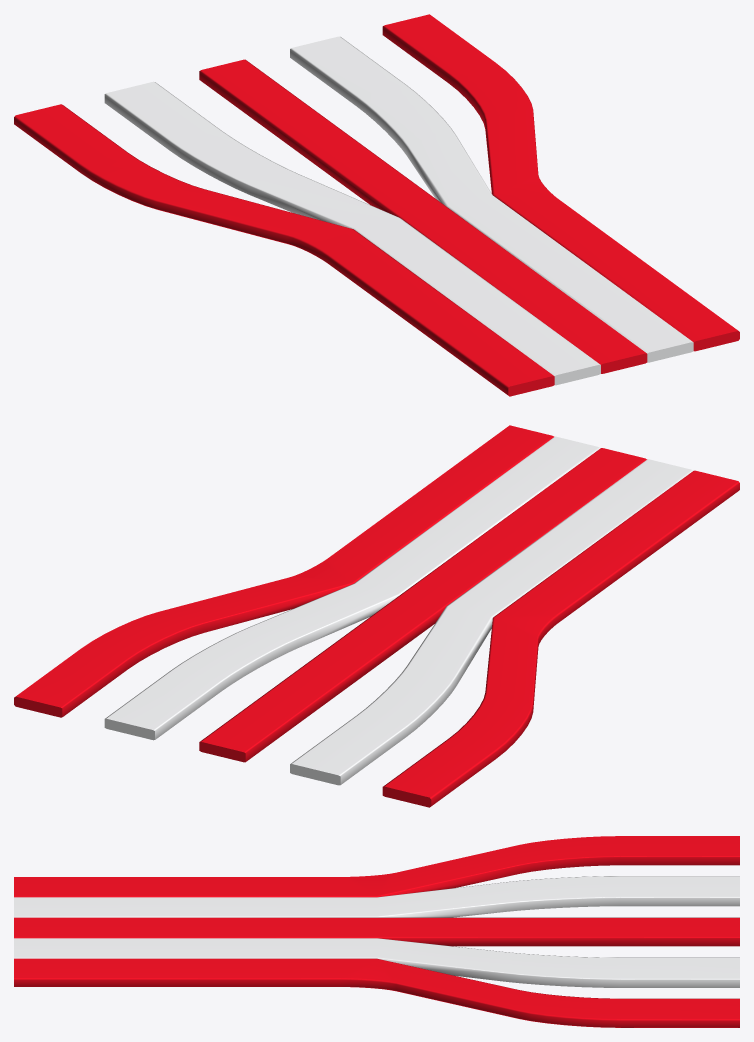
File: platform_candy_004.glb
3 views of the same model, one above another, from view 1: azimuth 30°, elevation 25°; view 2: azimuth 150°, elevation 25°; view 3: azimuth 270°, elevation 25° (orthographic). The views are drawn at different scales.
Parts seen in each view (by area): view 1: platform_candy_004; view 2: platform_candy_004; view 3: platform_candy_004.
Boxes of the visible parts, left/top/right/bottom form: platform_candy_004: left=14, top=14, right=739, bottom=396; platform_candy_004: left=14, top=425, right=739, bottom=807; platform_candy_004: left=14, top=836, right=739, bottom=1027.
Size of the model in its own units: 21.6 by 0.5 by 36.
1 material, 1 textured.
